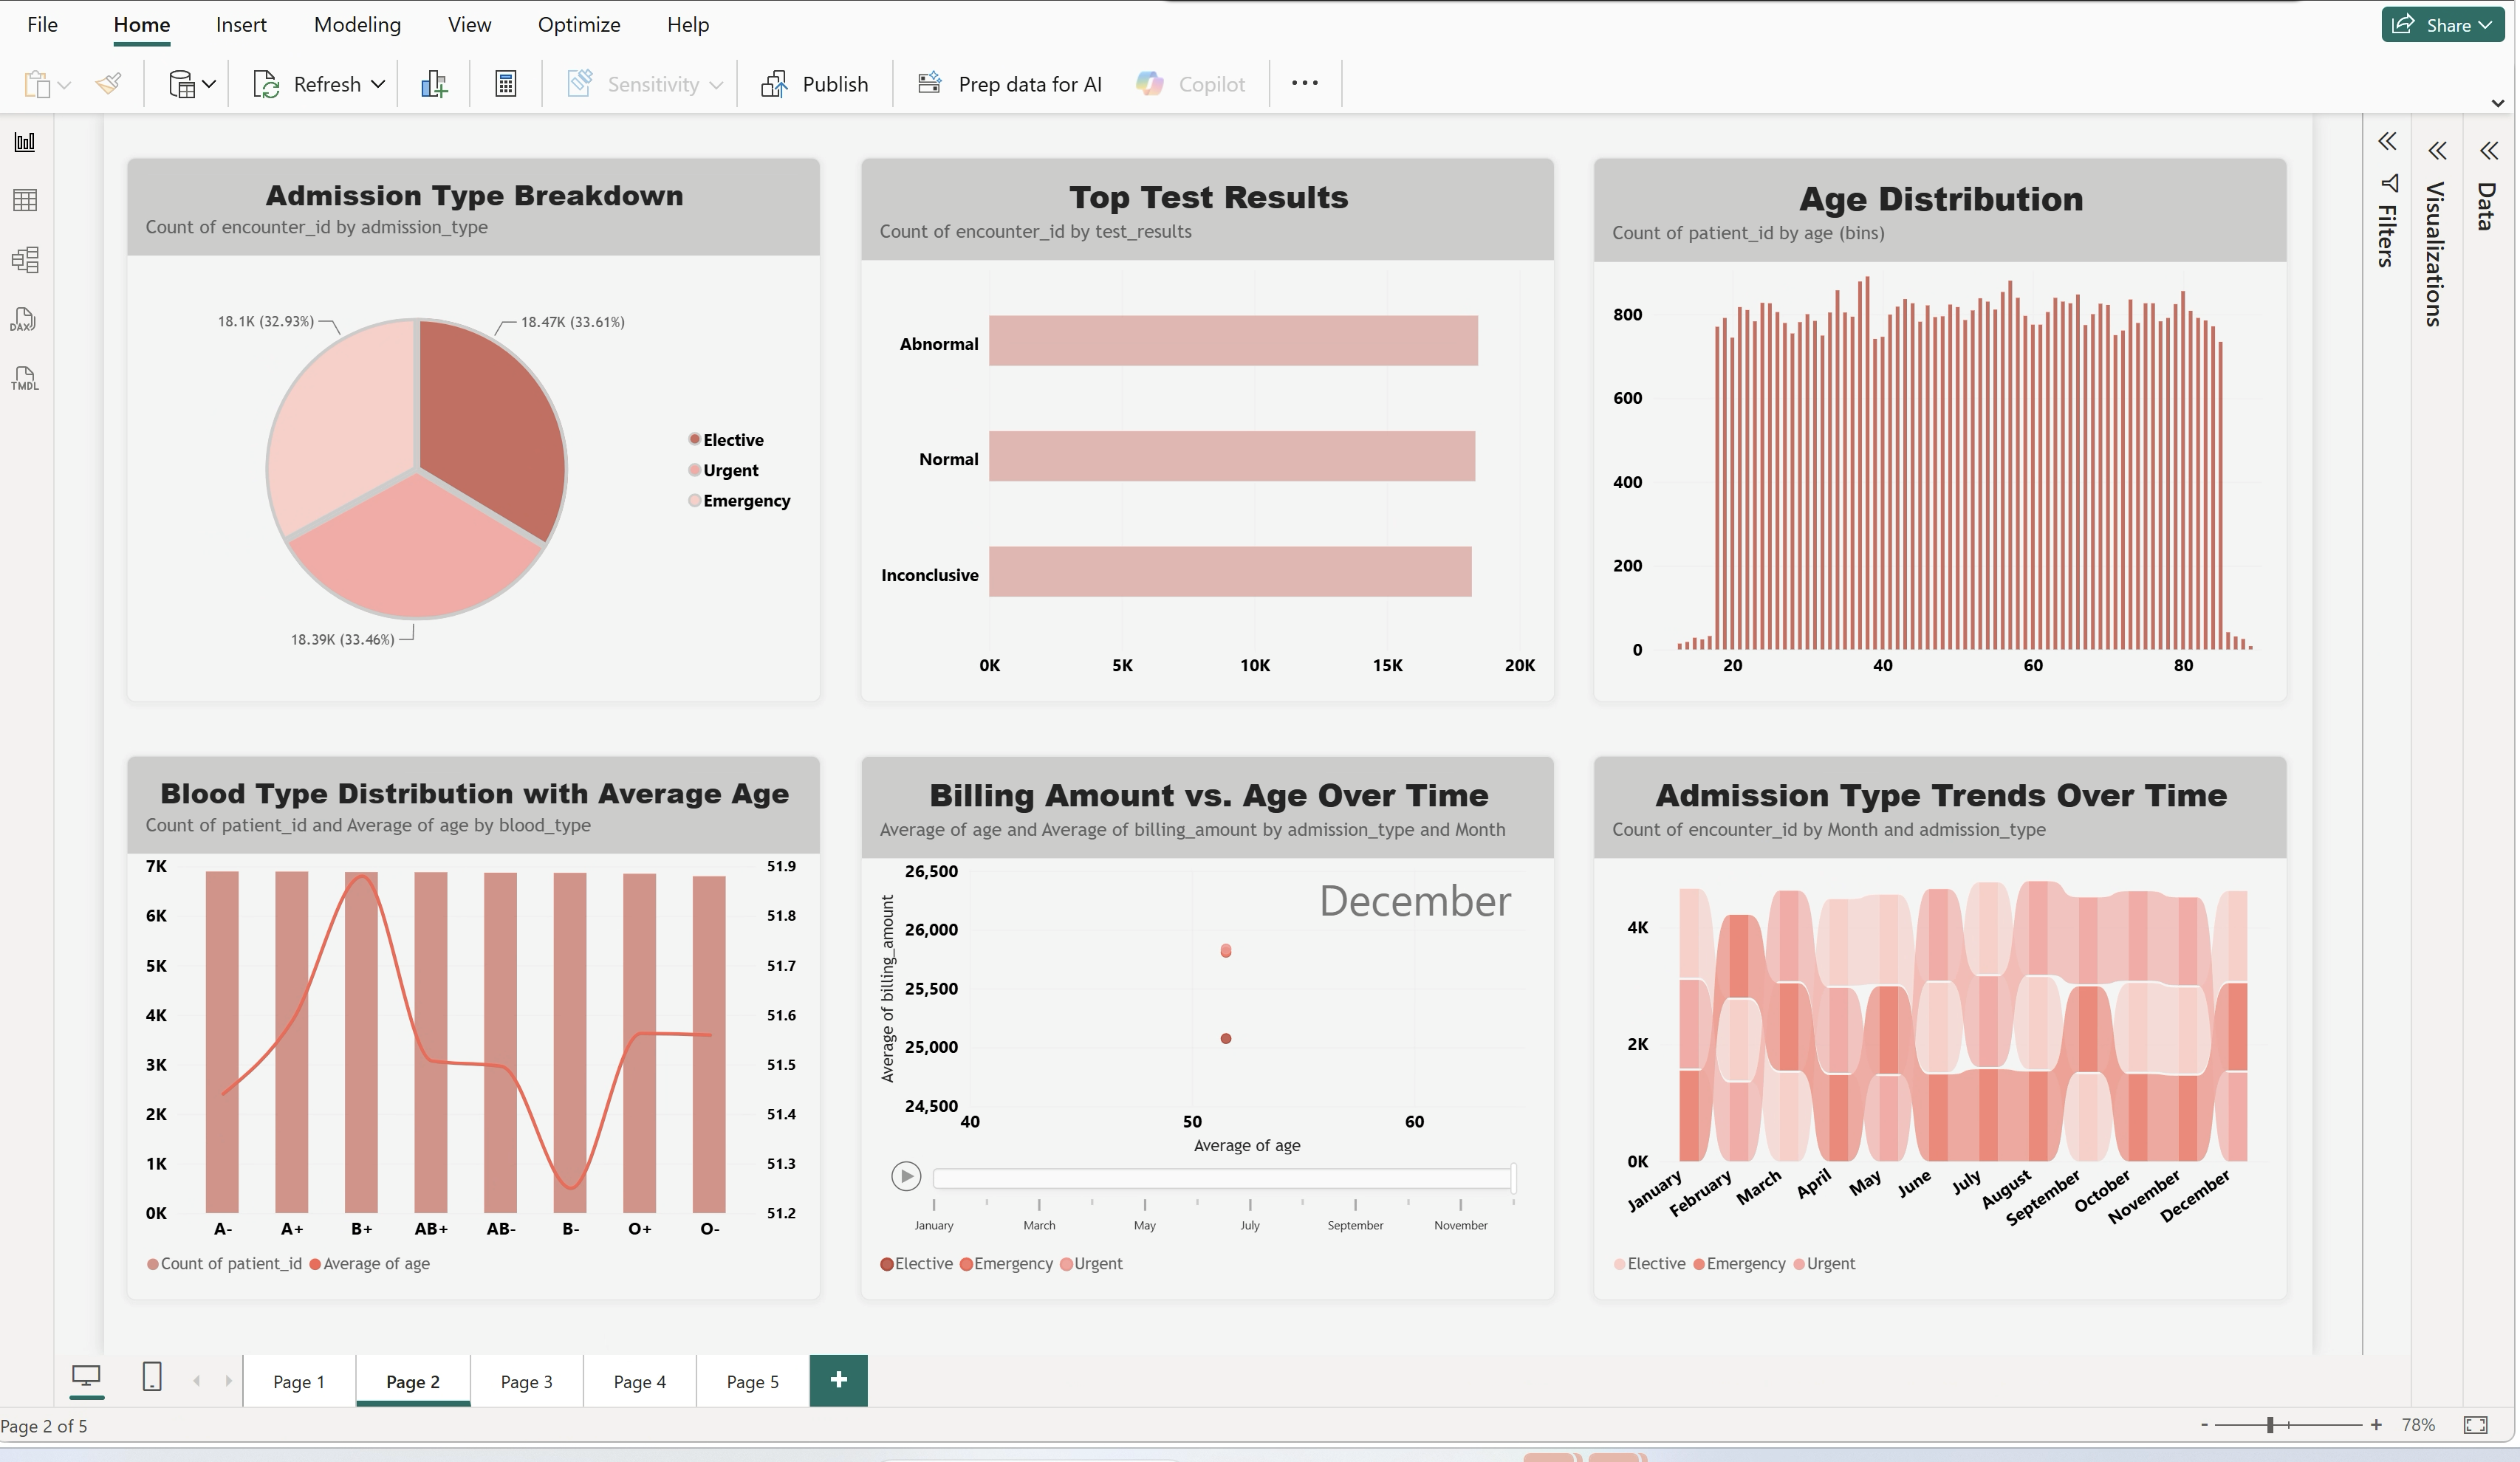

What the dashboard file says about the page in this screenshot:
{"tool":"powerbi","page":{"name":"Page 2","canvas":[1920,1080],"ordinal":1},"visuals":[{"type":"pieChart","title":"Admission Type Breakdown","fields":{"Category":["encounters_rows.admission_type"],"Y":["CountNonNull(encounters_rows.encounter_id)"]},"box":[19.1,38.2,604.1,473.9],"z":0},{"type":"clusteredBarChart","title":"Top Test Results","fields":{"Category":["encounters_rows.test_results"],"Y":["CountNonNull(encounters_rows.encounter_id)"]},"box":[657.9,38.2,604.1,473.9],"z":1},{"type":"clusteredColumnChart","title":"Age Distribution","fields":{"Category":["patients_rows.age (bins)"],"Y":["CountNonNull(patients_rows.patient_id)"]},"box":[1295,38.2,604,474],"z":2},{"type":"lineClusteredColumnComboChart","title":"Blood Type Distribution with Average Age","fields":{"Category":["patients_rows.blood_type"],"Y":["CountNonNull(patients_rows.patient_id)"],"Y2":["Avg(patients_rows.age)"]},"box":[19.1,559,604,474],"z":3},{"type":"scatterChart","title":"Billing Amount vs. Age Over Time","fields":{"Play":["encounters_rows.date_of_admission.Variation.Date Hierarchy.Month"],"Series":["encounters_rows.admission_type"],"X":["patients_rows.age"],"Y":["Avg(encounters_rows.billing_amount)"]},"box":[658,559,604,474],"z":4},{"type":"ribbonChart","title":"Admission Type Trends Over Time","fields":{"Category":["encounters_rows.date_of_admission.Variation.Date Hierarchy.Month"],"Series":["encounters_rows.admission_type"],"Y":["CountNonNull(encounters_rows.encounter_id)"]},"box":[1295,559,604,474],"z":5}]}

Visuals, with their boxes on the page's 1920x1080 design canvas (x1, y1, x2, y2). These are canvas units, not pixel positions in the 2520x1462 screenshot, which may show the page scaled, cropped or inside an application window:
"Admission Type Breakdown" pieChart: box=[19, 38, 623, 512]
"Top Test Results" clusteredBarChart: box=[658, 38, 1262, 512]
"Age Distribution" clusteredColumnChart: box=[1295, 38, 1899, 512]
"Blood Type Distribution with Average Age" lineClusteredColumnComboChart: box=[19, 559, 623, 1033]
"Billing Amount vs. Age Over Time" scatterChart: box=[658, 559, 1262, 1033]
"Admission Type Trends Over Time" ribbonChart: box=[1295, 559, 1899, 1033]
